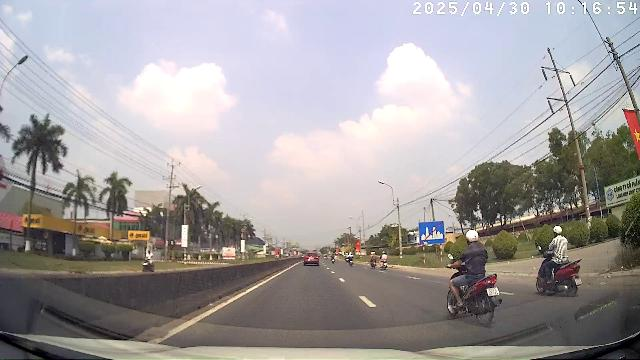421-ket-thuc-khu-dong-dan-cu: (419, 222, 445, 243)
